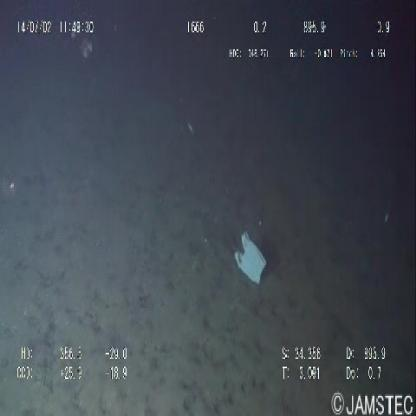Rác: (229, 225, 272, 291)
